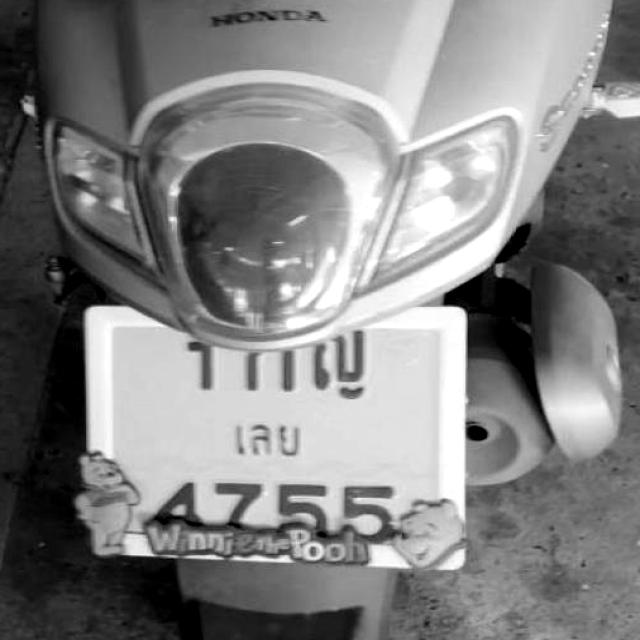letters: (309, 335, 381, 399), (170, 326, 224, 394), (242, 332, 300, 395), (282, 479, 337, 542), (151, 477, 207, 534), (348, 483, 394, 546), (215, 478, 263, 535)
license-plate: (89, 312, 457, 554)
province: (221, 406, 309, 468)
